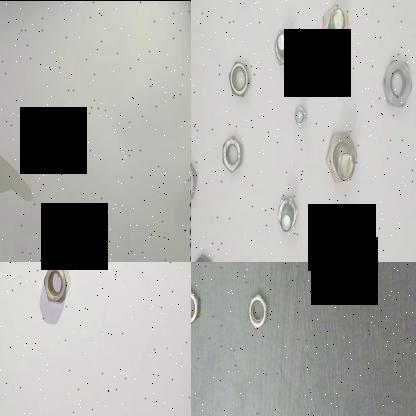Bolts: (322, 126, 360, 184), (317, 0, 349, 55), (308, 227, 352, 262), (273, 185, 300, 237), (270, 24, 296, 64), (292, 99, 310, 135)
NUTS: (377, 50, 416, 120), (226, 56, 258, 108), (246, 286, 278, 337), (40, 262, 68, 307), (217, 136, 245, 175), (191, 152, 199, 214), (191, 283, 201, 331), (191, 246, 214, 262)
